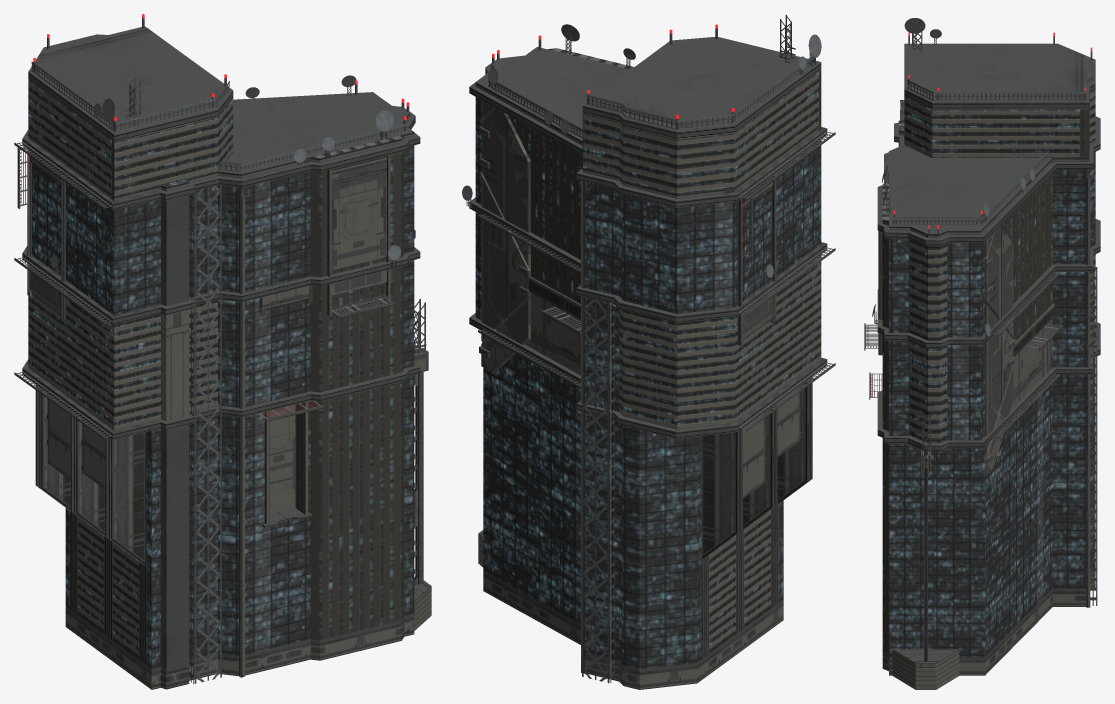
Rendered from Skyscraper_02.gltf.
3 views of the same model, side by side, from view 1: azimuth 30°, elevation 25°; view 2: azimuth 150°, elevation 25°; view 3: azimuth 270°, elevation 25° (orthographic). The views are drawn at different scales.
Parts seen in each view (by area): view 1: Skyscraper_02; view 2: Skyscraper_02; view 3: Skyscraper_02.
Boxes of the visible parts, left/top/right/bottom form: Skyscraper_02: left=14, top=14, right=431, bottom=689; Skyscraper_02: left=462, top=15, right=835, bottom=689; Skyscraper_02: left=864, top=18, right=1100, bottom=689.
Bounding box in the file's own units: 50.41 × 86.84 × 34.2.
Materials: 2 (2 with a texture image).
